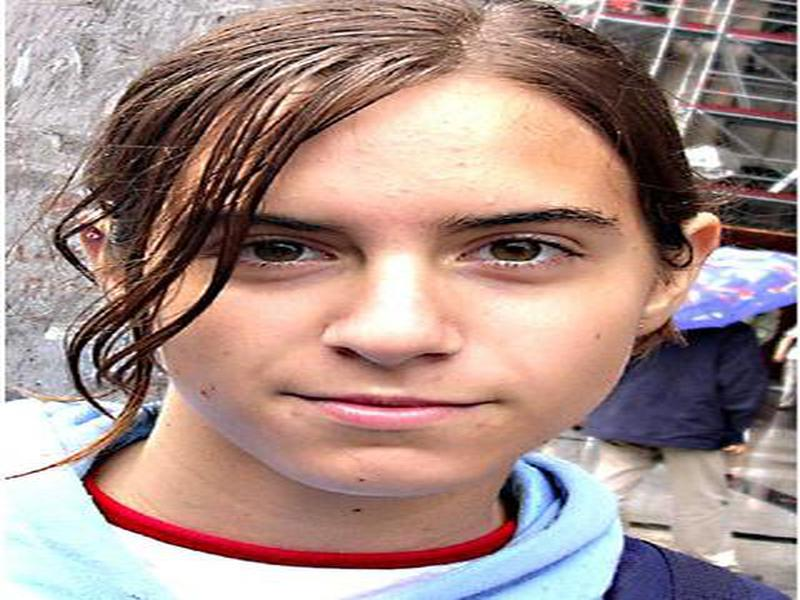without_mask: (163, 104, 629, 501)
